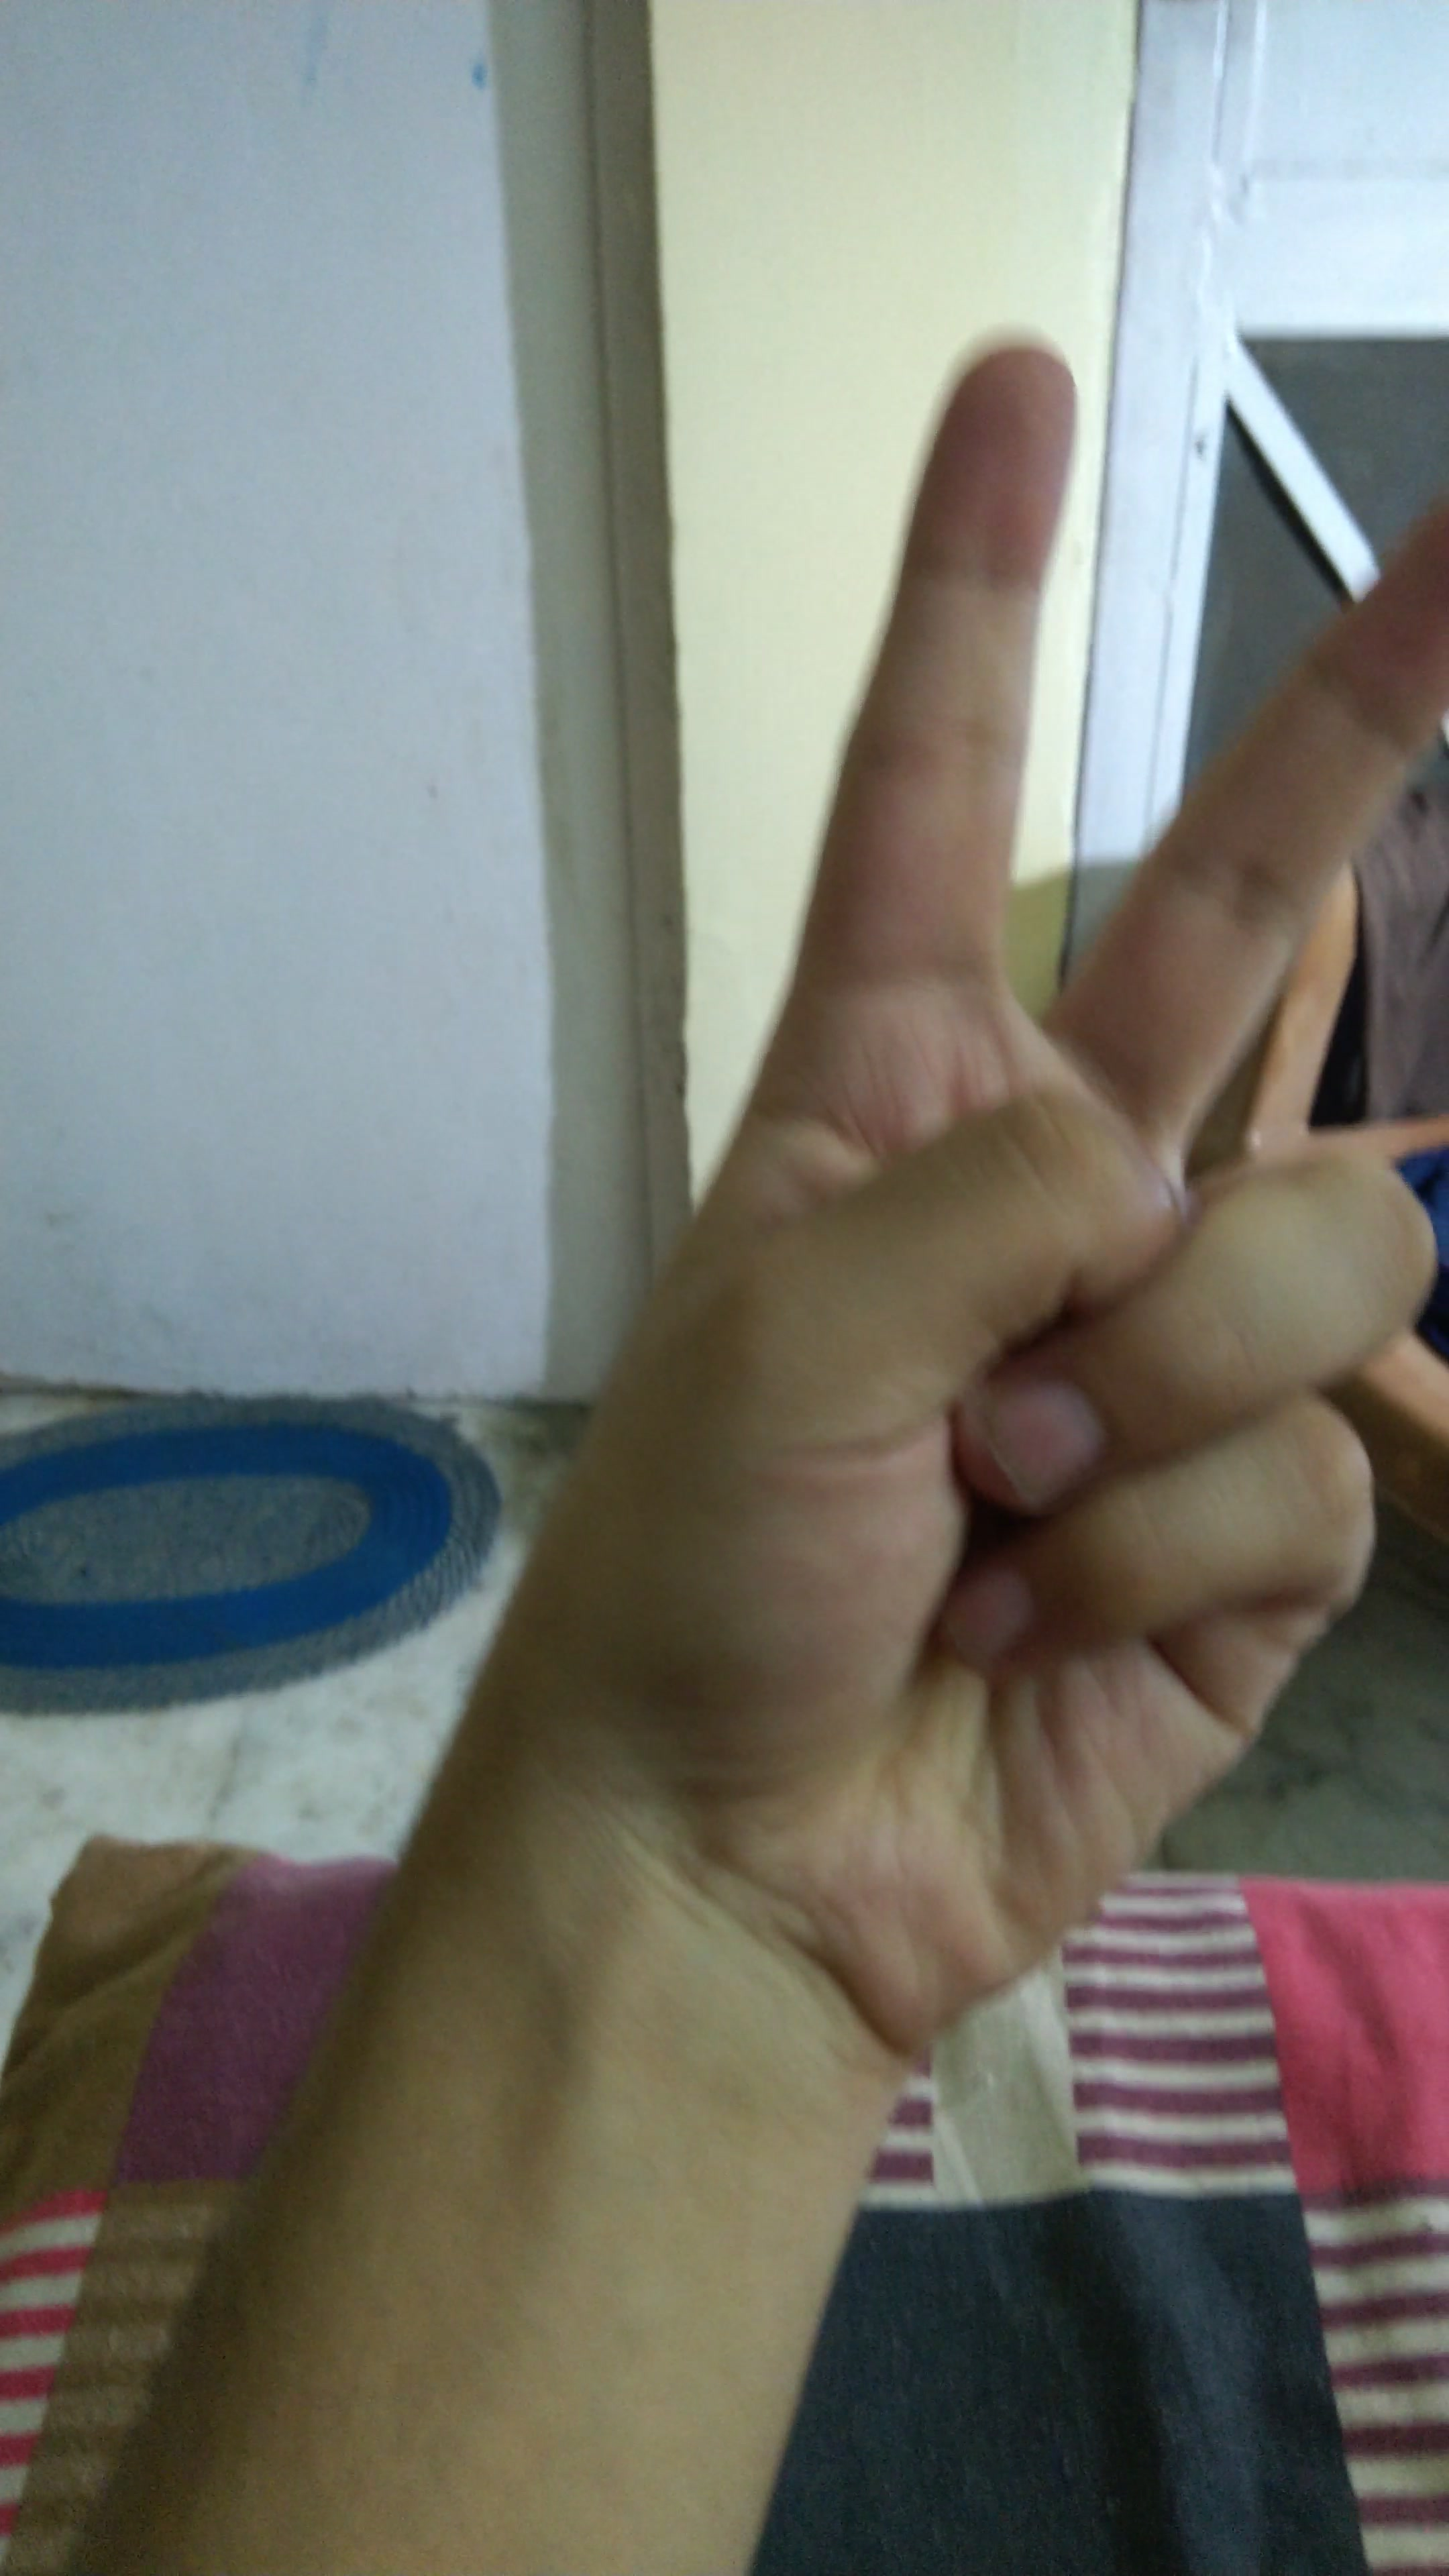hand: (301, 301, 1449, 2079)
